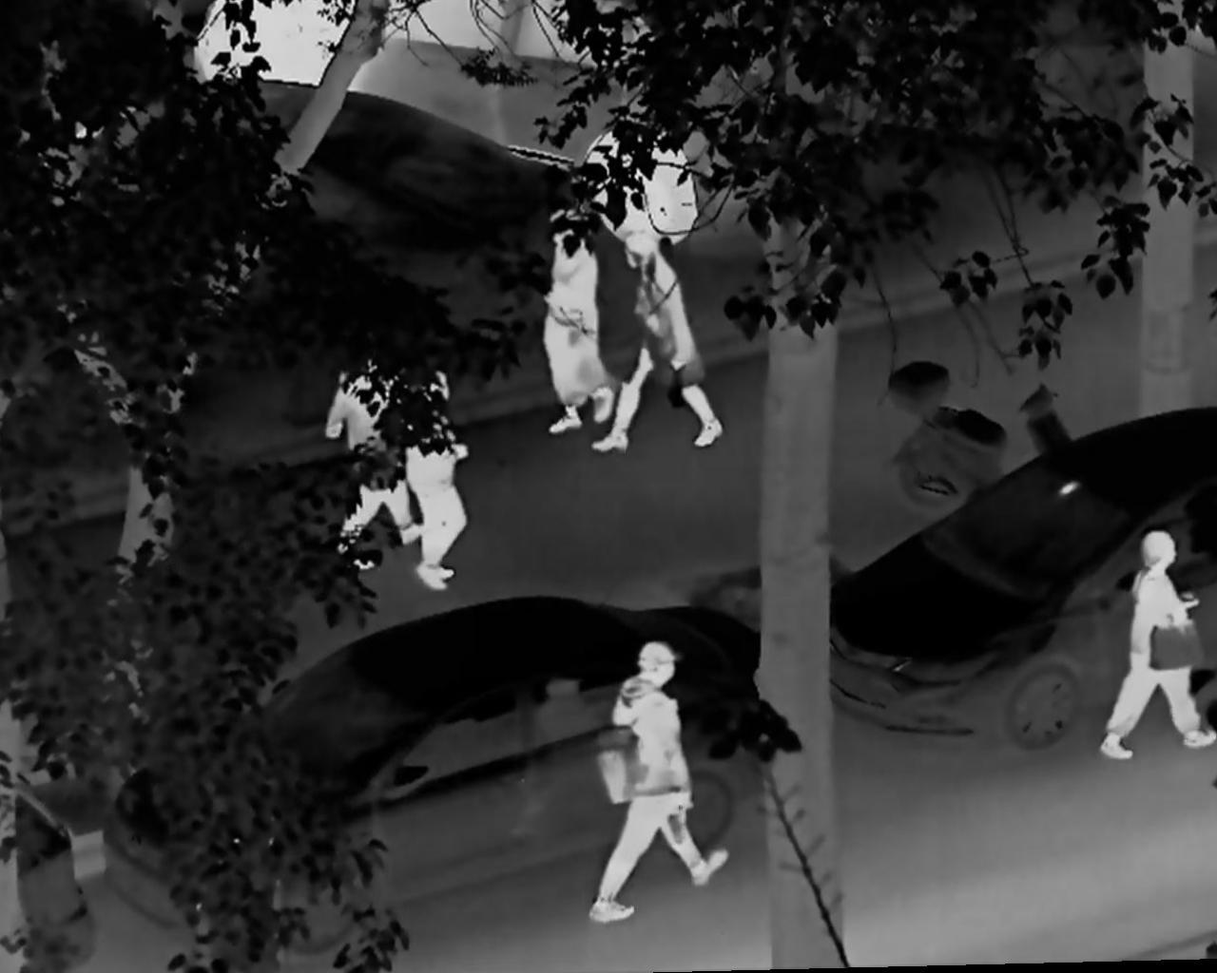person: (585, 637, 731, 925), (594, 224, 722, 454), (1097, 526, 1217, 763), (320, 332, 432, 572), (524, 203, 608, 439), (393, 368, 478, 595)
